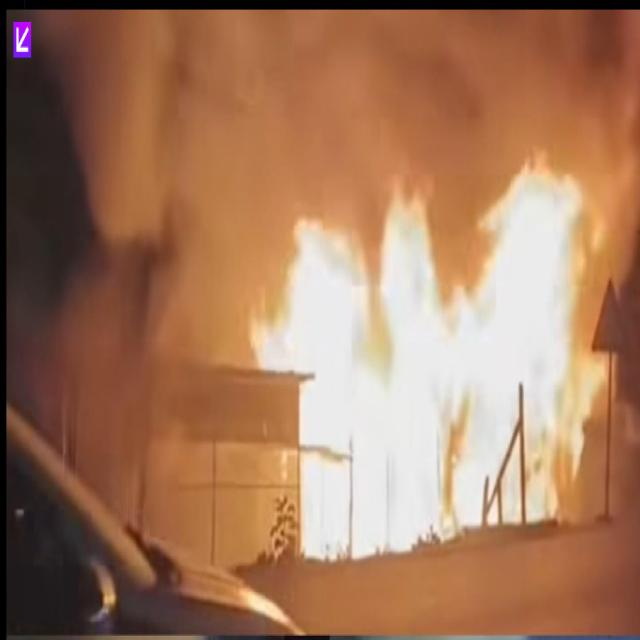fire: (438, 146, 615, 419), (299, 355, 499, 560), (250, 217, 371, 389), (379, 185, 438, 368), (499, 419, 585, 524)
